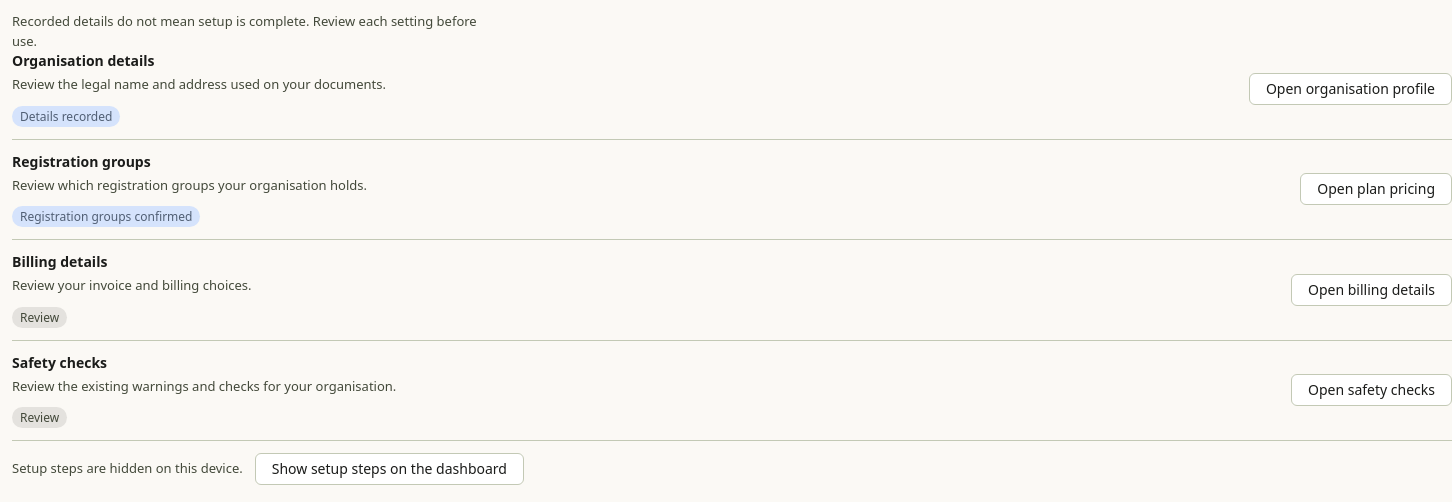
Show setup steps on the dashboard › shows the line and button while hidden; pressing clears the flag and removes both
Expected: the text "Setup steps are hidden on this device." is shown, x1=12 y1=459 x2=243 y2=479
Click the button "Show setup steps on the dashboard": (389, 469) x1=255 y1=453 x2=524 y2=485
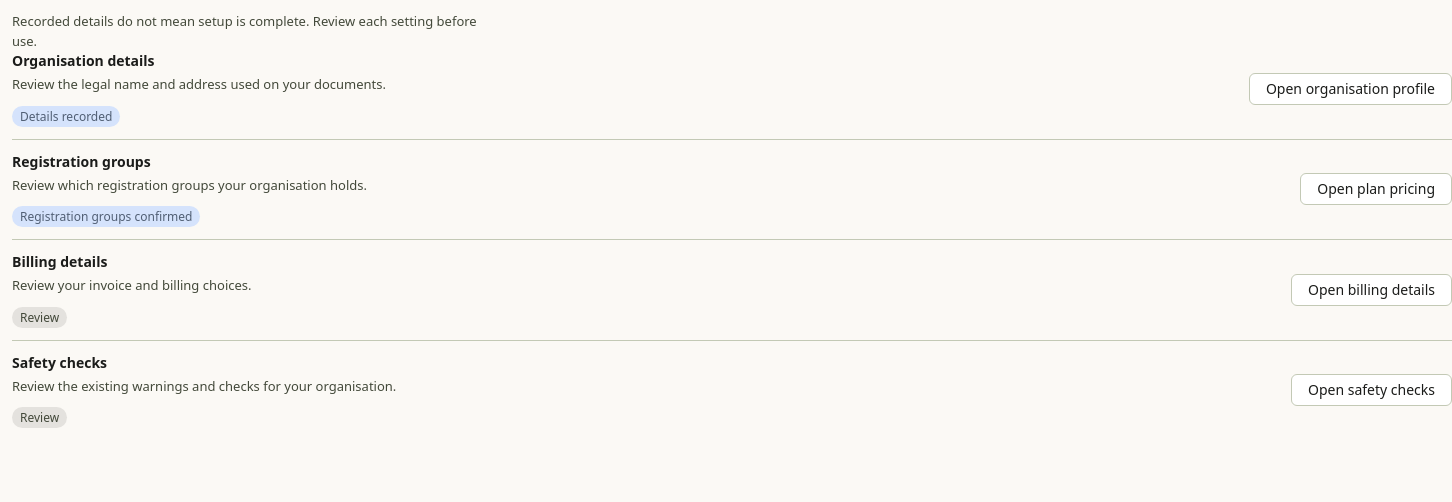
Result: the text "Setup steps are hidden on this device." is gone
Result: the button "Show setup steps on the dashboard" is gone
